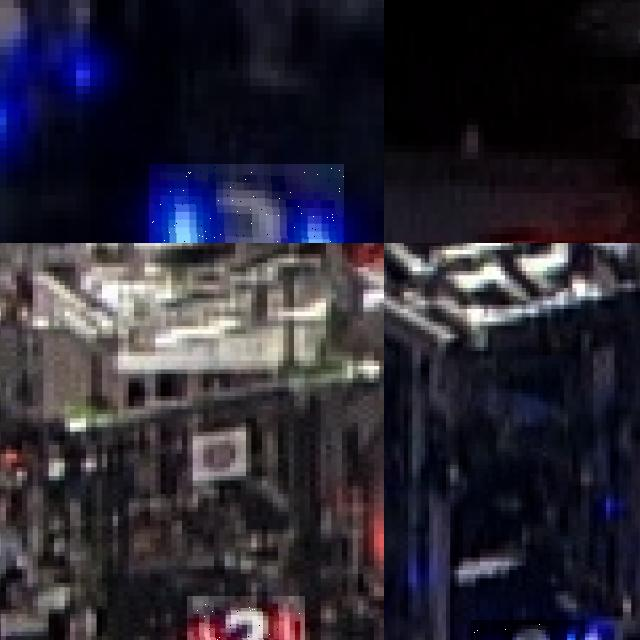B2: (471, 620, 584, 640)
B3: (149, 164, 344, 243)
R2: (187, 596, 304, 640)
